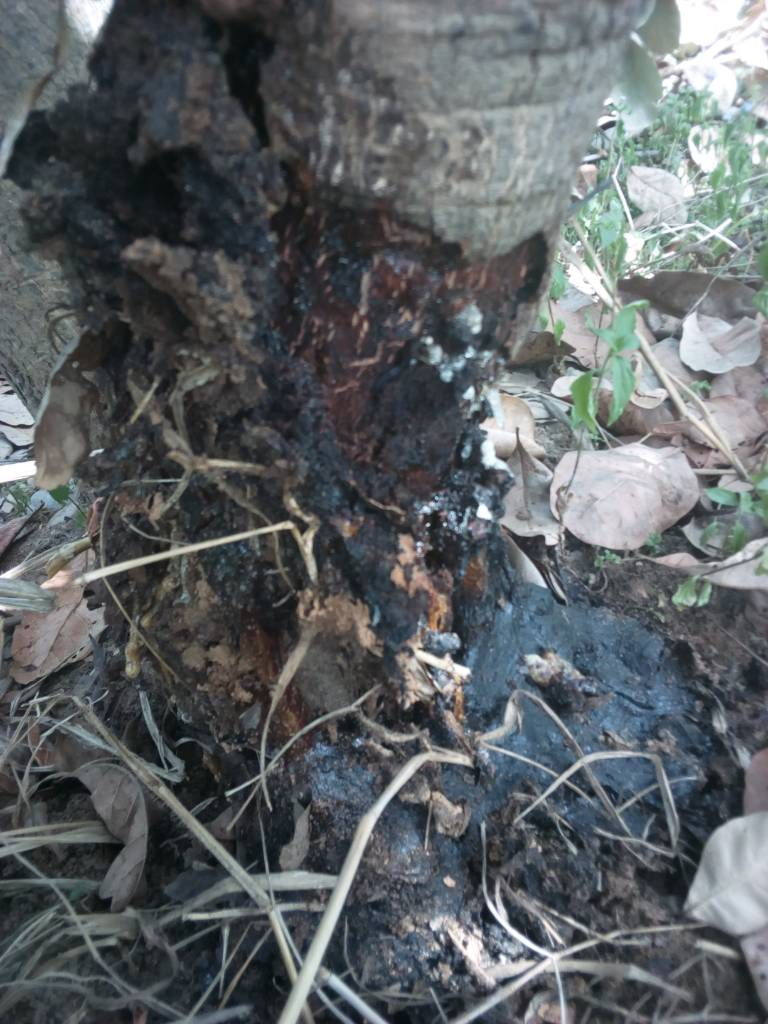Gommose: (244, 183, 538, 550)
